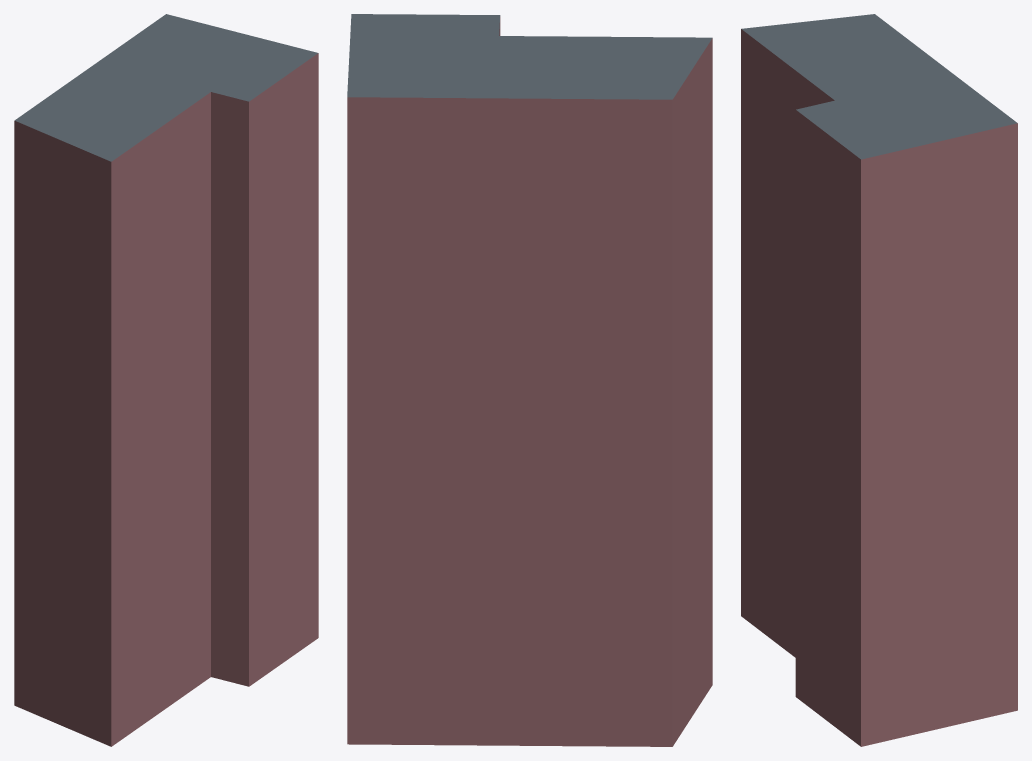
File: nyc-1080611-0.glb
3 renders of one model, left to right at view 1: azimuth 30°, elevation 25°; view 2: azimuth 150°, elevation 25°; view 3: azimuth 270°, elevation 25°, orthographic. The views are drawn at different scales.
Visible parts, largest first — view 1: nyc-1080611-0; view 2: nyc-1080611-0; view 3: nyc-1080611-0.
Boxes of the visible parts, left/top/right/bottom form: nyc-1080611-0: left=14, top=14, right=318, bottom=746; nyc-1080611-0: left=347, top=14, right=712, bottom=746; nyc-1080611-0: left=741, top=14, right=1017, bottom=746.
Size of the model in its own units: 58.33 by 110 by 46.85.
